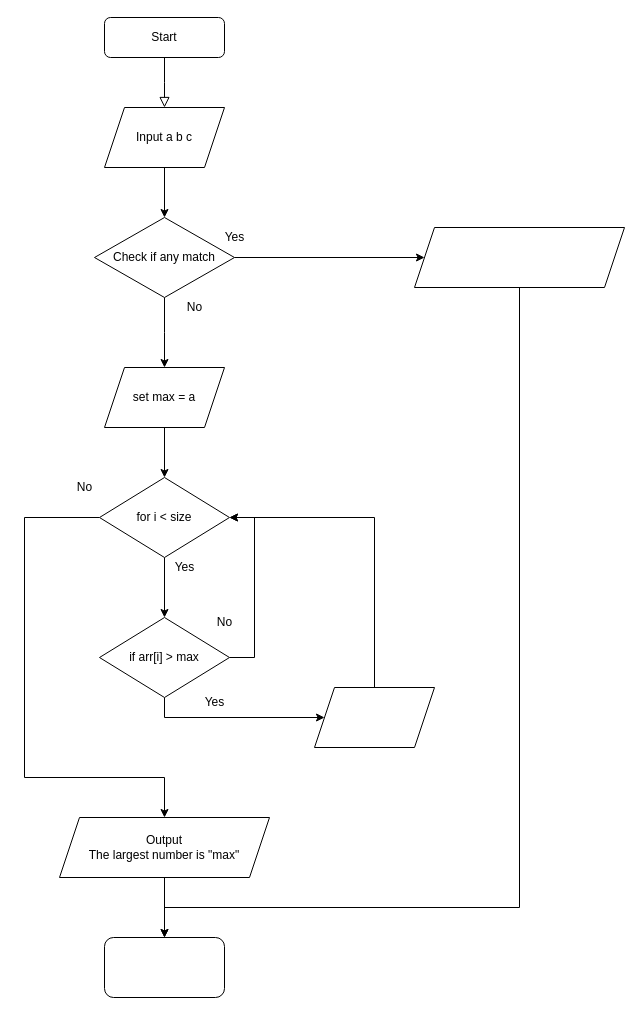
Image size: 642x1015. Some labels were removed from this diagram. Each missing label, with the box of its shape:
max = i: (314, 686, 434, 748)
Output Two of the inputs are the same: (414, 226, 624, 288)
Stop: (104, 936, 224, 998)
